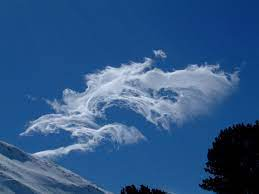Cirrus: (17, 30, 238, 153)
